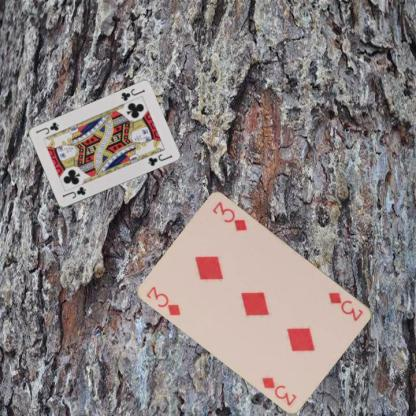3d: (326, 289, 364, 323), (144, 284, 182, 317)
Jc: (118, 86, 146, 102), (60, 184, 87, 200)
